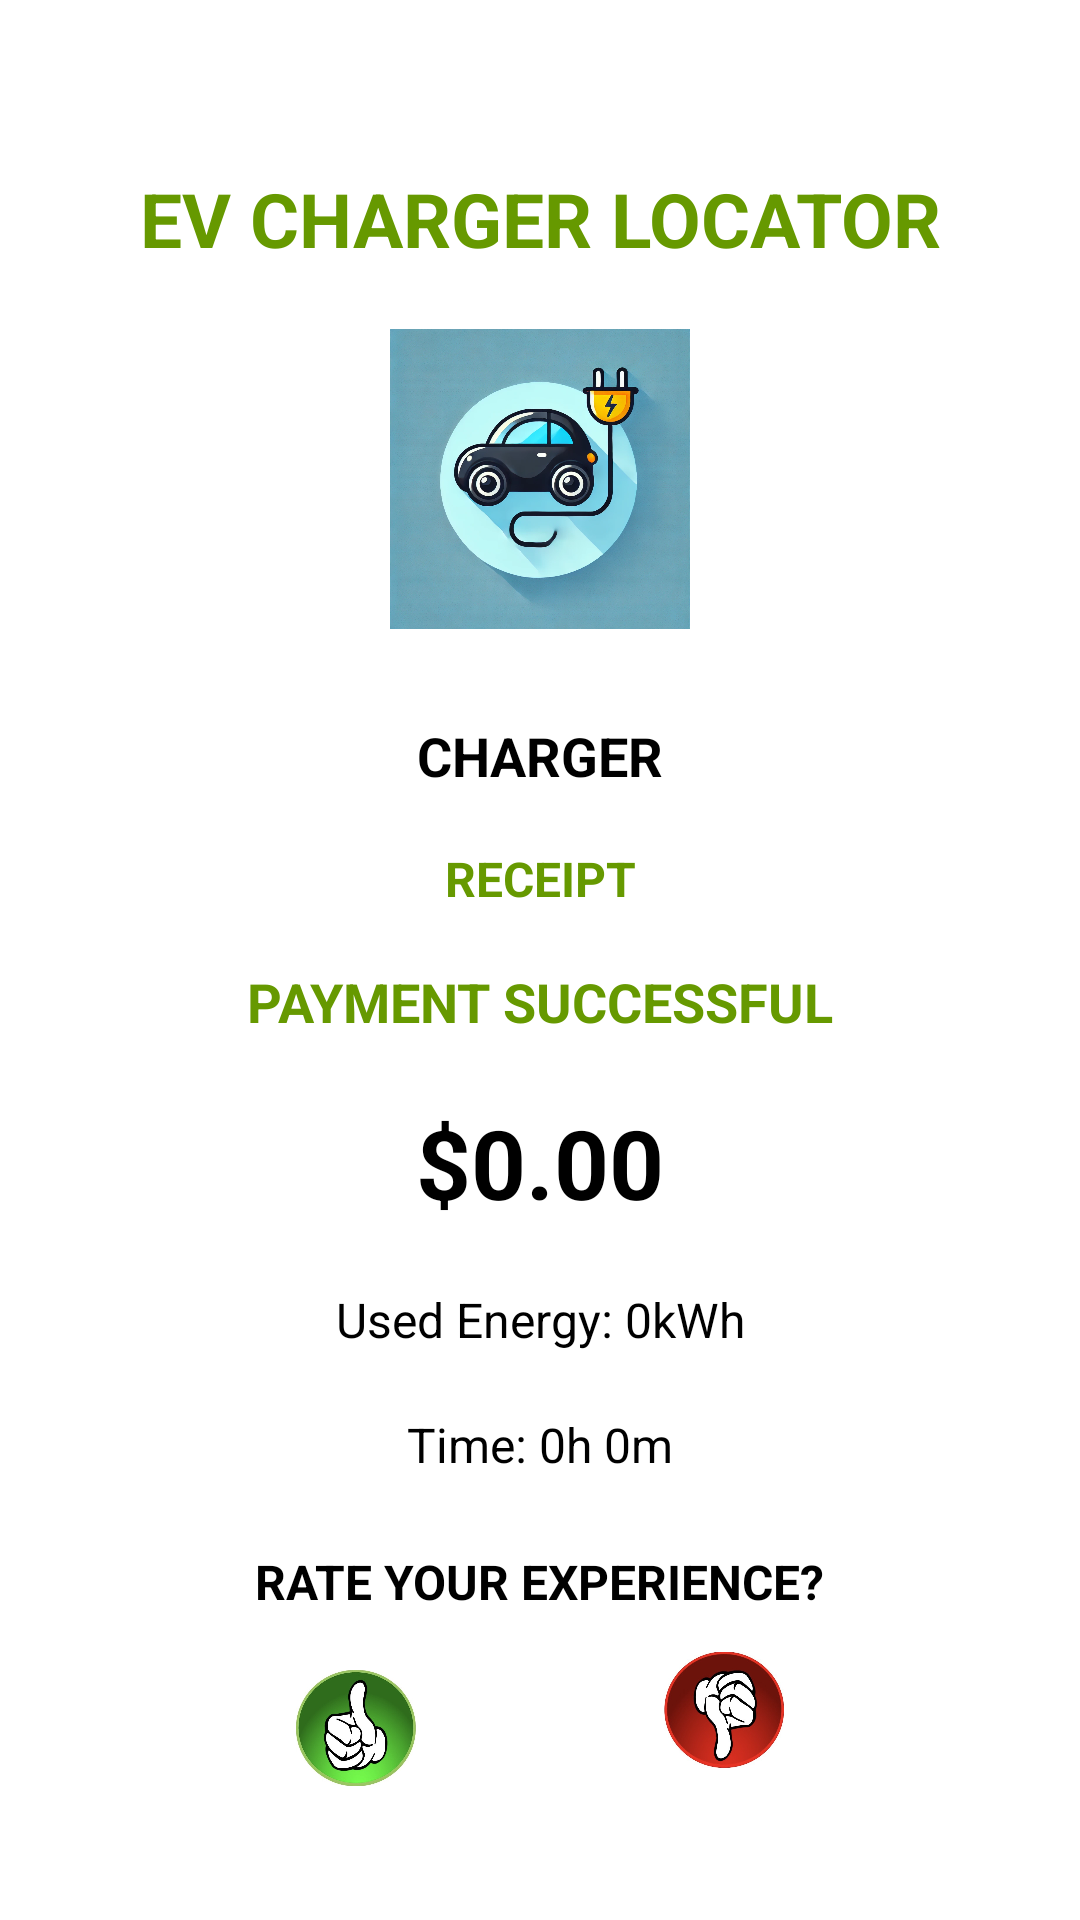

Icon bounding boxes for this 1080px x 1920px phone screenshot, format detection(x1, y1, x2, y2):
Thumbs Down: detection(664, 1652, 784, 1768)
Thumbs Up: detection(296, 1670, 416, 1786)
